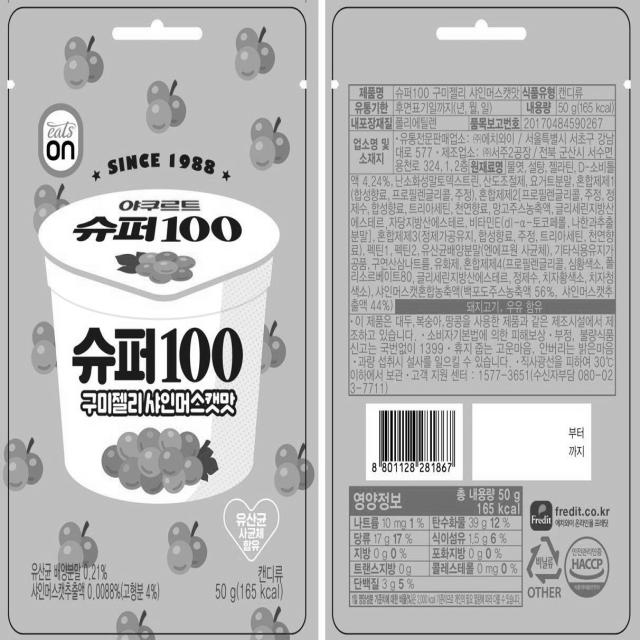Nutrition Label: (345, 478, 529, 625)
